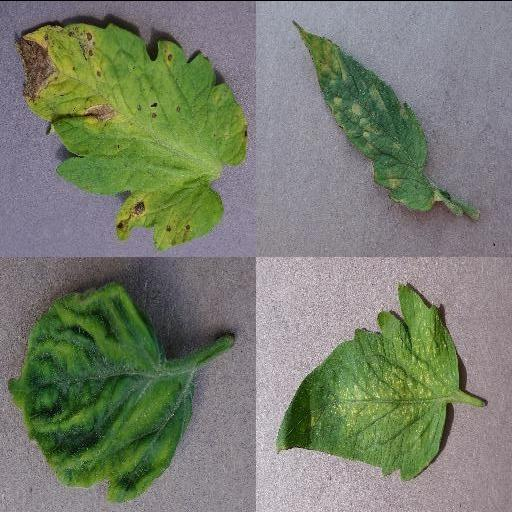Leaf Mold: (298, 28, 436, 209)
Septoria: (14, 21, 250, 249)
Spider Mites: (277, 281, 461, 481)
Yellow Leaf Curl Virus: (6, 282, 196, 501)
